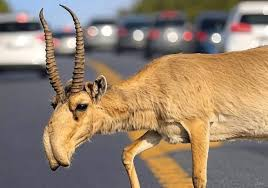saiga: (39, 4, 268, 188)
